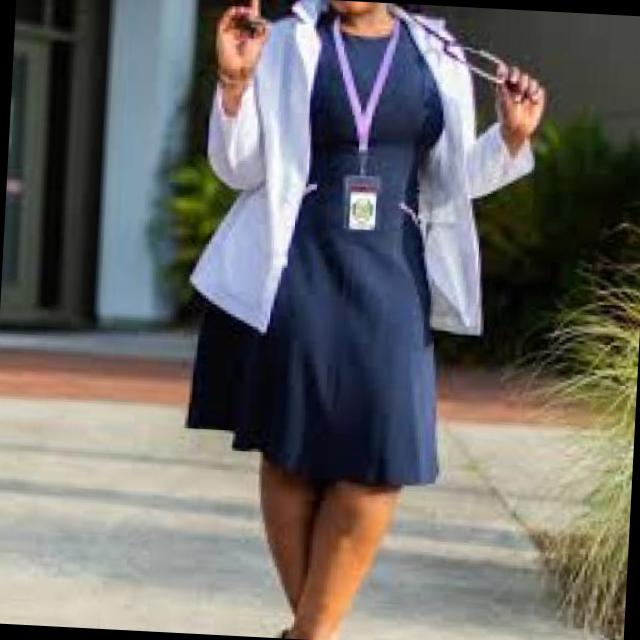id_card: (318, 3, 409, 235)
